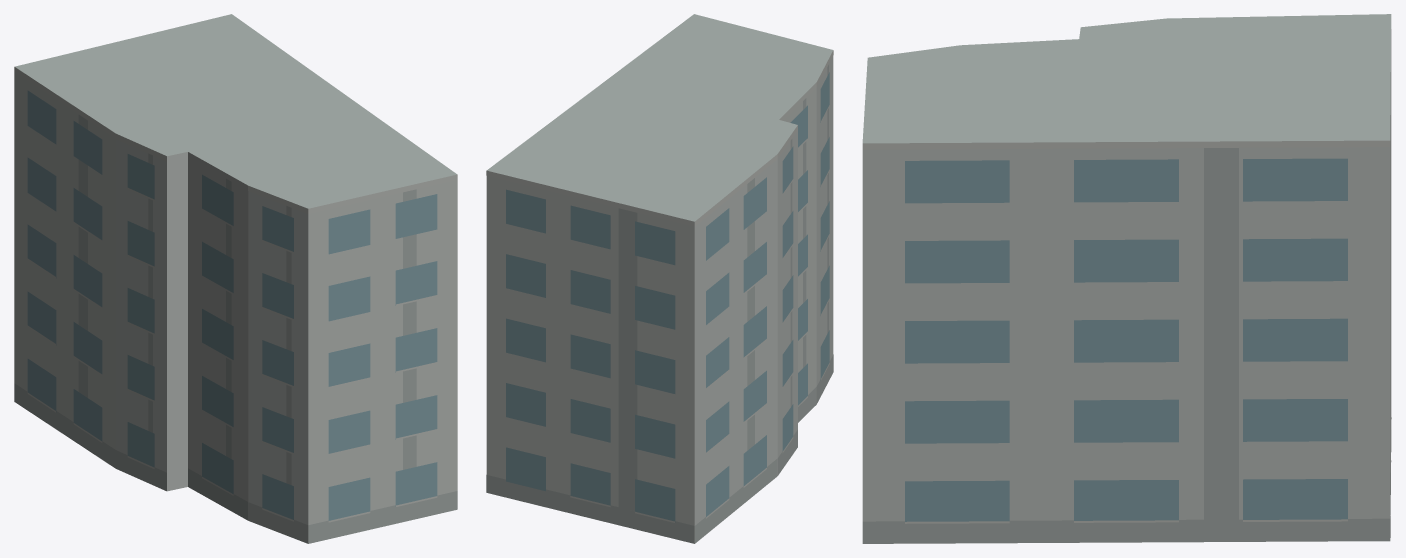
Rendered from survey-upis-32764944.glb.
3 views of the same model, side by side, from view 1: azimuth 30°, elevation 25°; view 2: azimuth 150°, elevation 25°; view 3: azimuth 270°, elevation 25° (orthographic). The views are drawn at different scales.
Parts seen in each view (by area): view 1: survey-upis-32764944.tmp; view 2: survey-upis-32764944.tmp; view 3: survey-upis-32764944.tmp.
Boxes of the visible parts, bbox=[...] form: survey-upis-32764944.tmp: bbox=[14, 14, 457, 543]; survey-upis-32764944.tmp: bbox=[486, 14, 833, 543]; survey-upis-32764944.tmp: bbox=[862, 14, 1391, 543].
Bounding box in the file's own units: 10.47 × 15.1 × 18.08.
